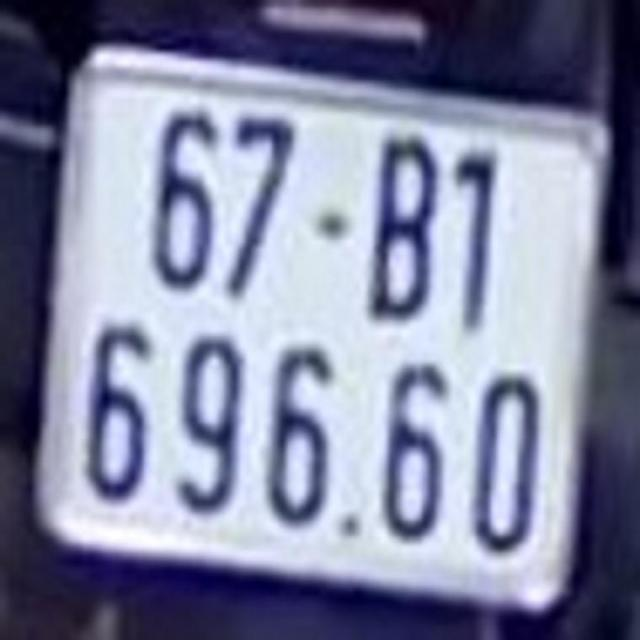0: (471, 360, 536, 554)
1: (453, 153, 501, 337)
6: (149, 115, 219, 282), (270, 340, 332, 527), (382, 354, 445, 536), (90, 319, 153, 498)
7: (231, 112, 294, 299)
9: (173, 330, 243, 512)
B: (366, 136, 434, 321)
